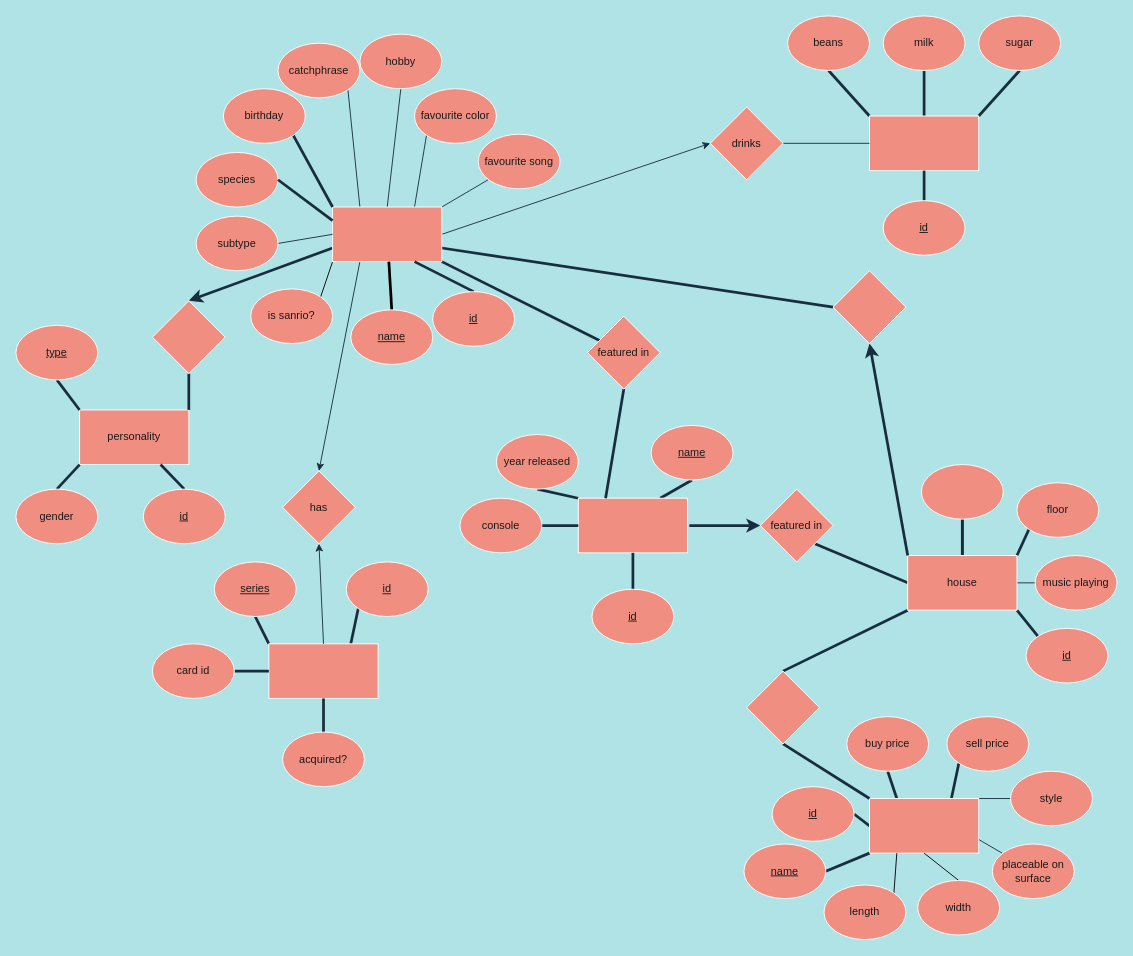
This 1133x956 diagram has some shape labels left out. The centre of each missing label's shape, as x and y in pixels:
amiibo: point (323, 670)
coffee: point (924, 143)
contains: point (782, 707)
furniture: point (924, 825)
game: point (632, 525)
is: point (188, 337)
lives in: point (869, 307)
villager: point (387, 234)
wallpaper: point (961, 491)
